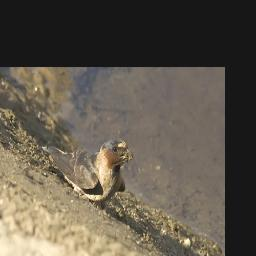Swallow: (45, 138, 132, 205)
